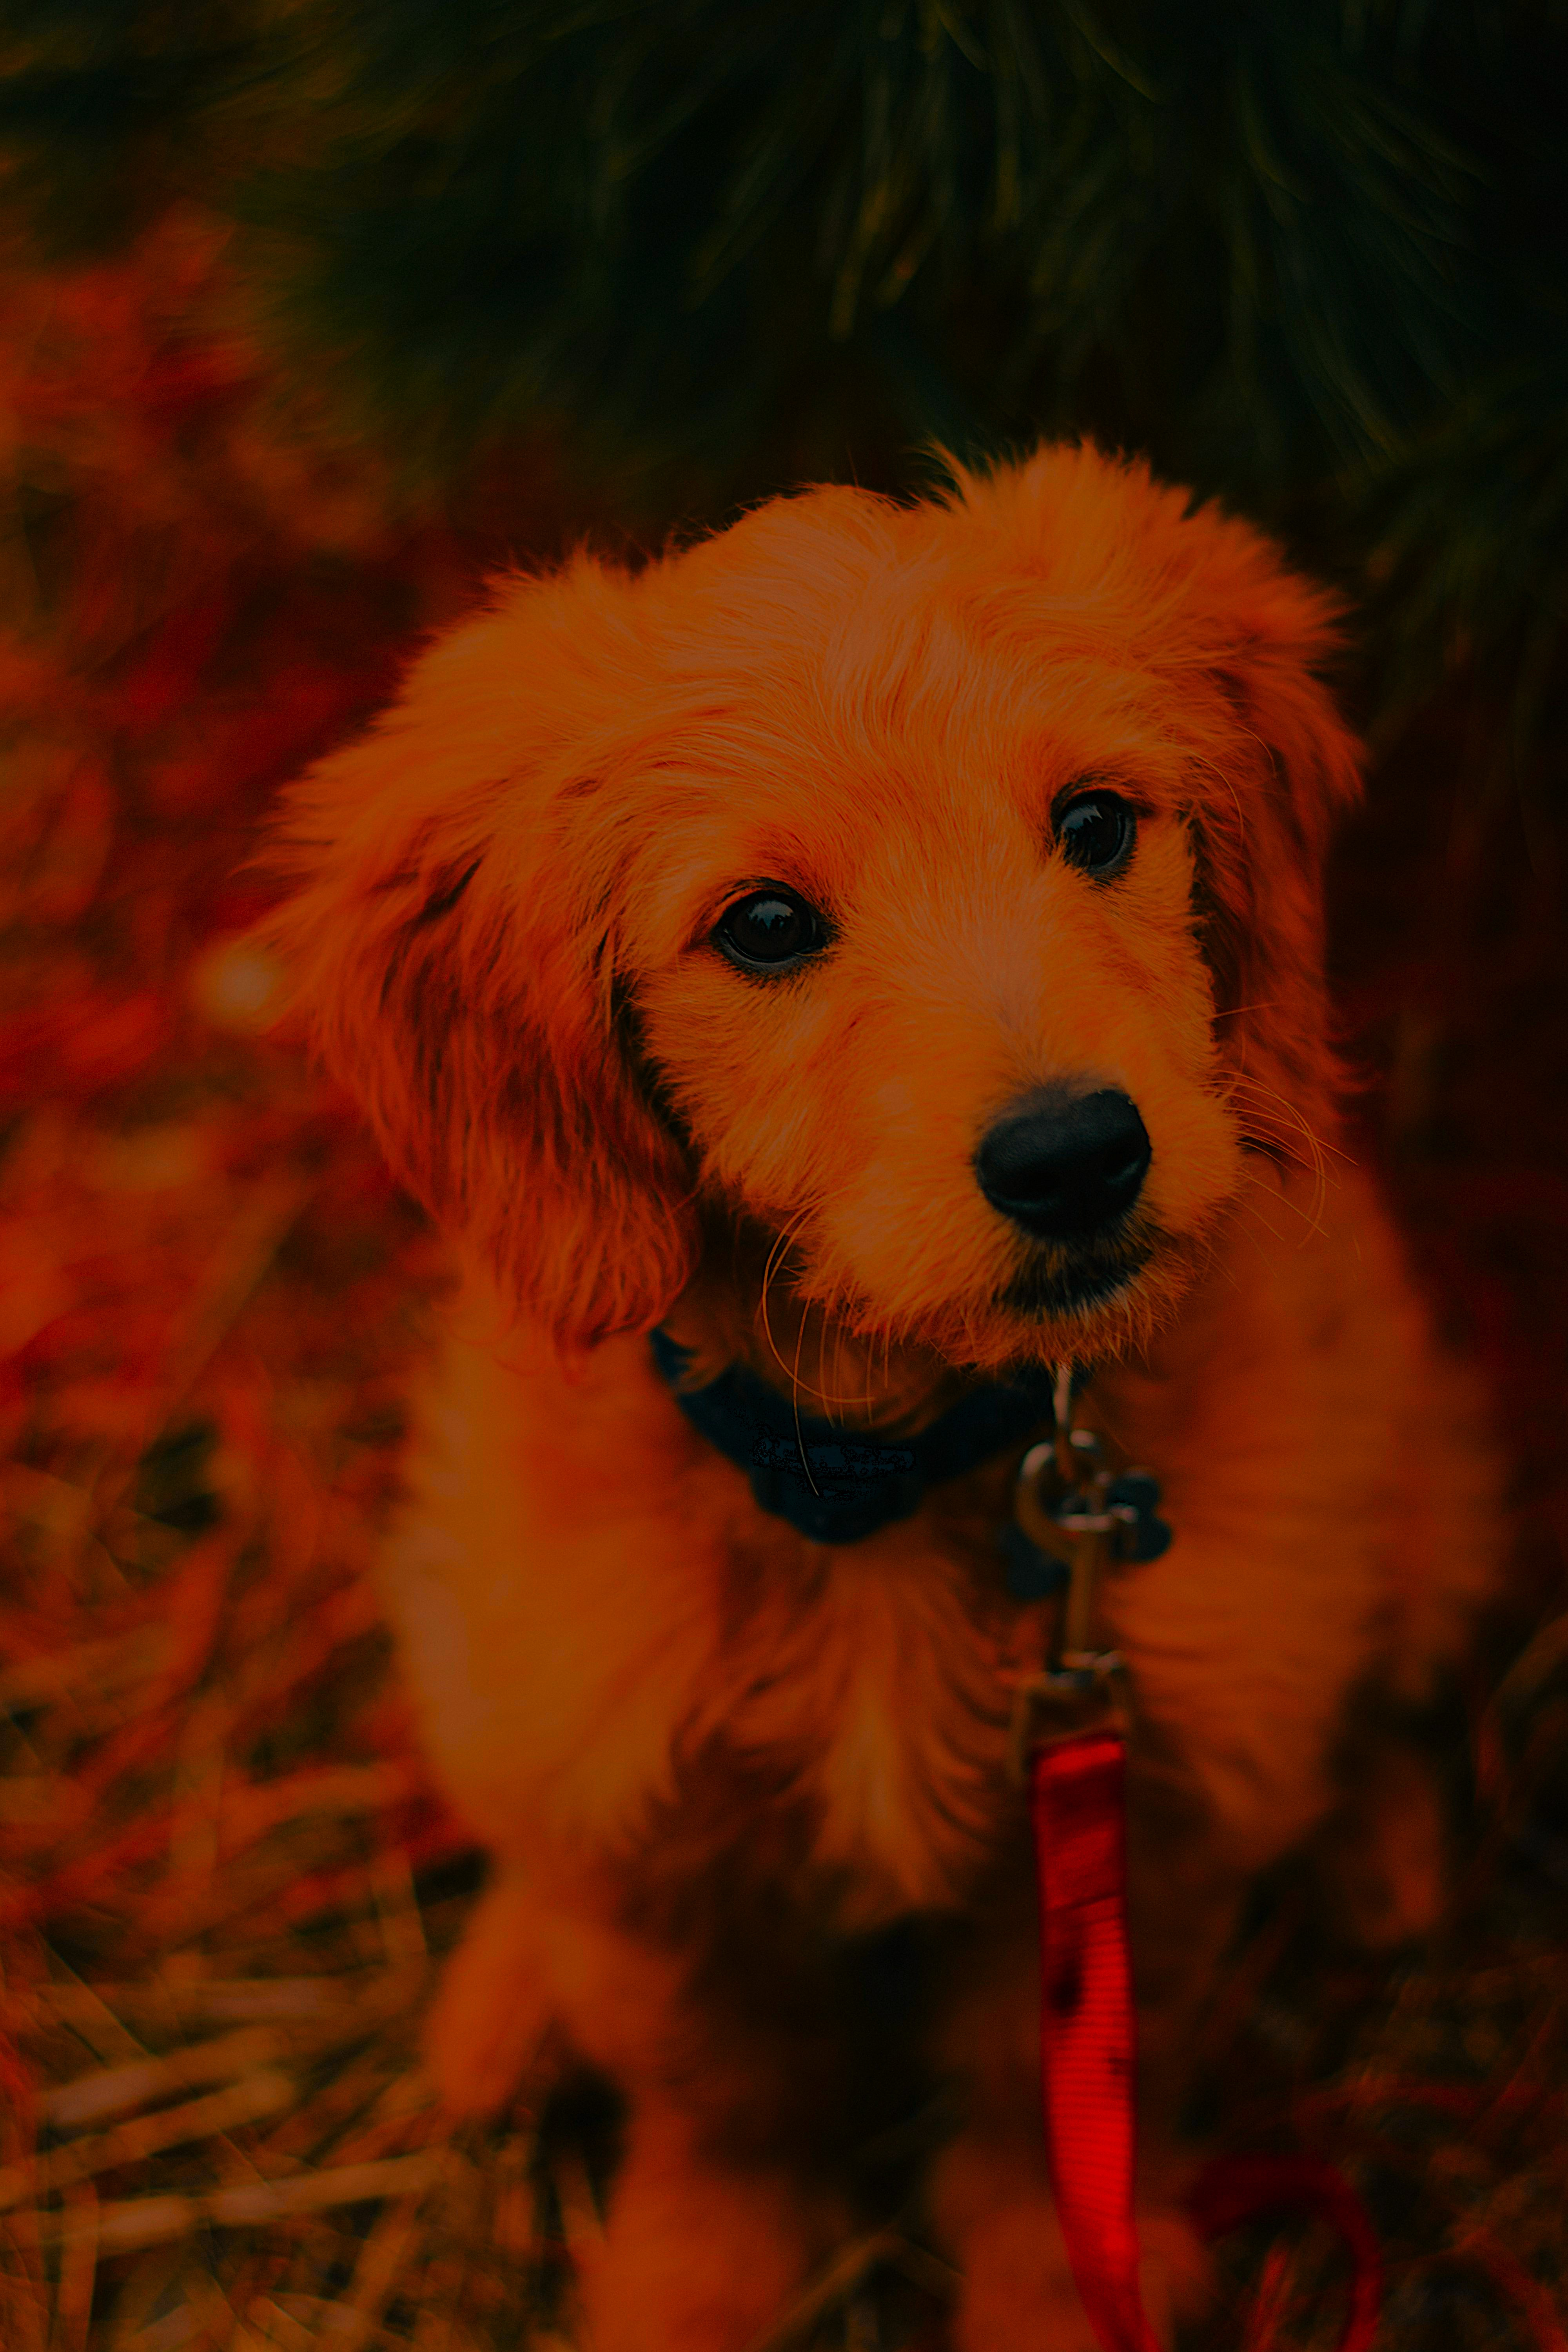dog: (247, 434, 1482, 2352)
